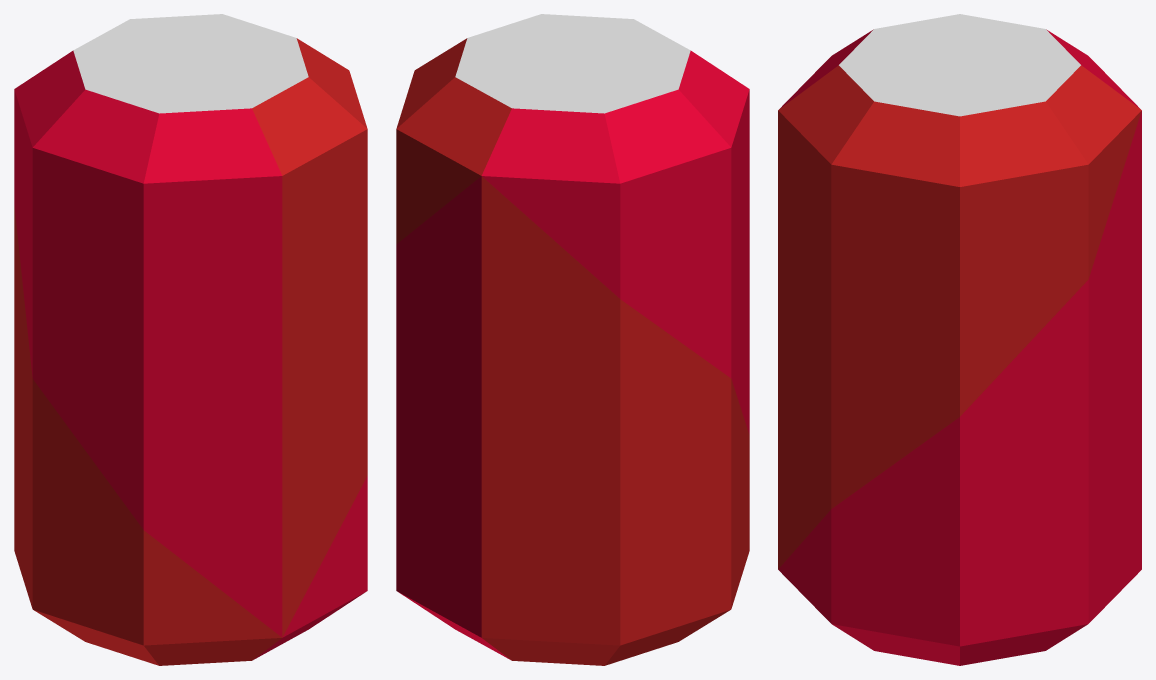
File: Cola.fbx
3 renders of one model, left to right at view 1: azimuth 30°, elevation 25°; view 2: azimuth 150°, elevation 25°; view 3: azimuth 270°, elevation 25°, orthographic.
Parts seen in each view (by area): view 1: Cola; view 2: Cola; view 3: Cola.
Part boxes in pixels (x1,y1,x2,y2): Cola: (14,14,367,665); Cola: (396,14,749,665); Cola: (778,14,1141,665).
Bounding box in the file's own units: 0.09 × 0.15 × 0.09.
